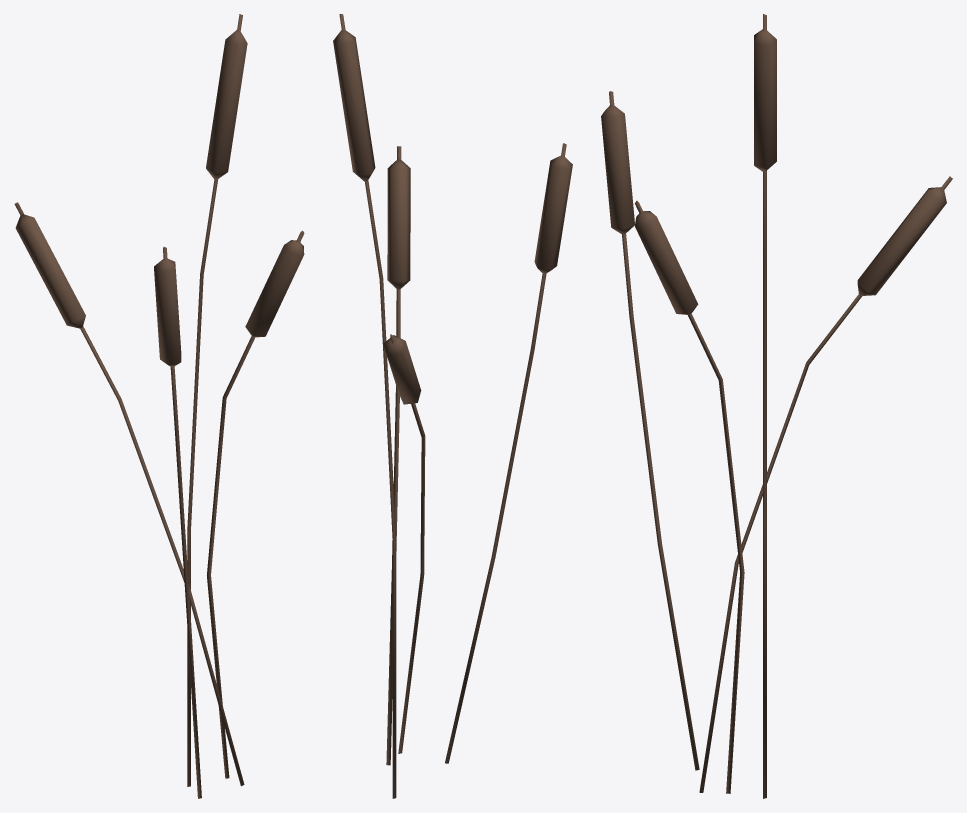
File: Reed_9.fbx
3 views of the same model, side by side, from view 1: azimuth 30°, elevation 25°; view 2: azimuth 150°, elevation 25°; view 3: azimuth 270°, elevation 25° (orthographic). The views are drawn at different scales.
Visible parts, largest first — view 1: Reed 9; view 2: Reed 9; view 3: Reed 9.
Part boxes in pixels (x1,y1,x2,y2): Reed 9: (14,14,304,798); Reed 9: (333,14,572,798); Reed 9: (601,14,952,798).
Size of the model in its own units: 62.48 by 277 by 109.
